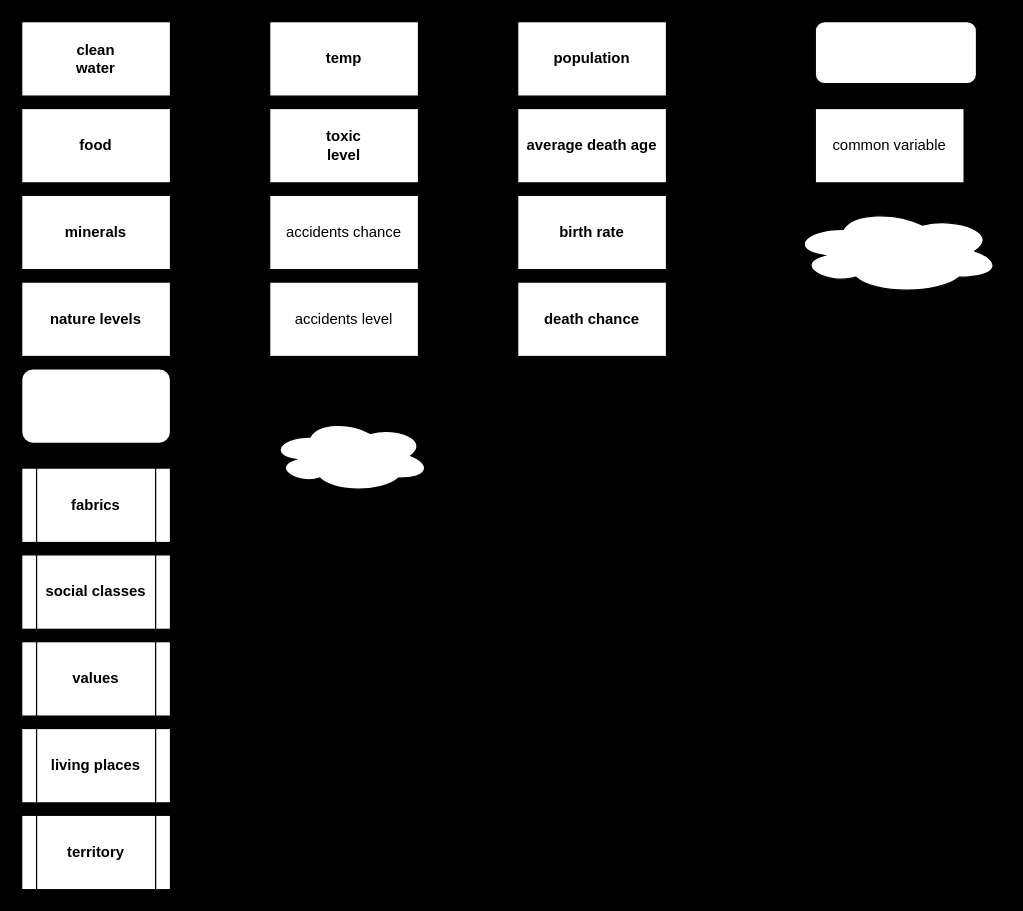
The diagram is 1023 pixels wide and 911 high, and some of its shapes have lost their labels. Here are the shapes that lost their labels. From the top down, the centre of each, then its label:
At pixel 895 52: "can be expanded".
At pixel 895 250: "some abstractions".
At pixel 95 405: "fuels".
At pixel 349 455: "accidents".
